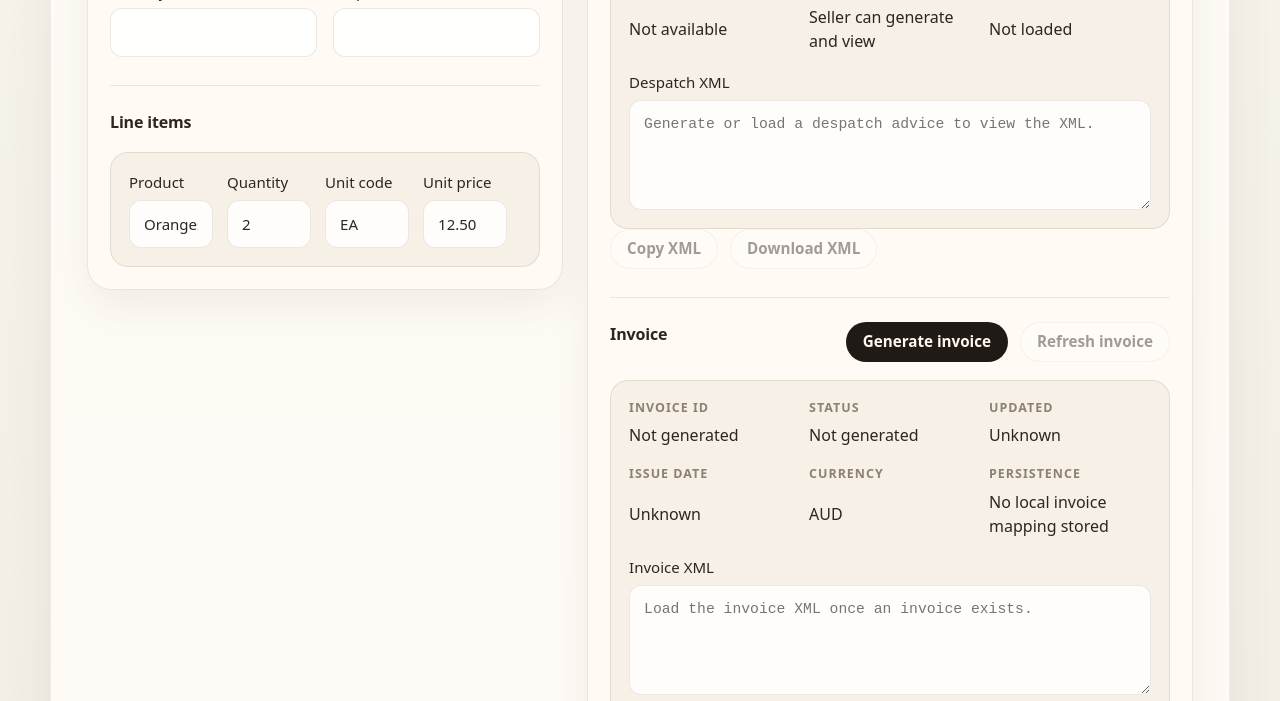
it: VoiceOrderDemo › hydrates invoice controls from nested invoice creation payloads
The image size is (1280, 701).
(page scrolled)
Step 1. Click the button "Generate invoice" → [927, 342], box [846,322,1008,362]
(page scrolled)
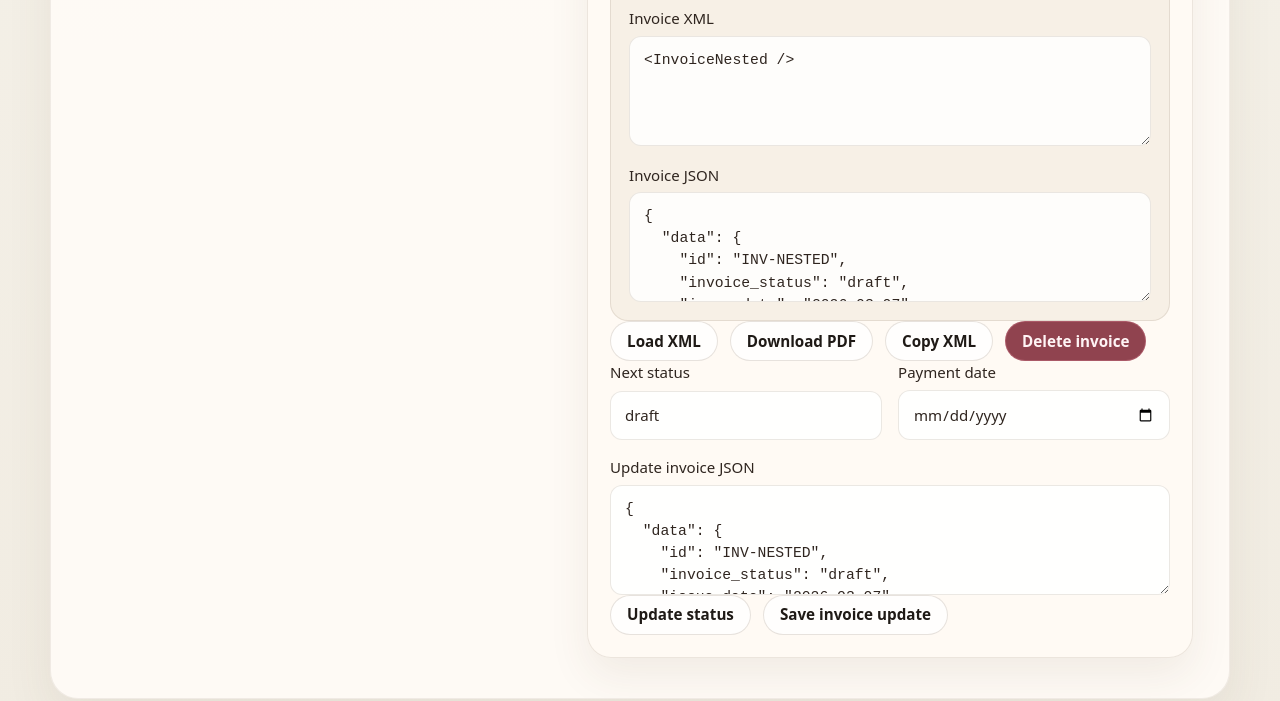
Now the text box showing "<InvoiceNested />" is shown, box [629,36,1151,146]
Now the button "Load XML" is enabled, box [610,321,718,361]
Now the button "Download PDF" is enabled, box [730,321,873,361]
